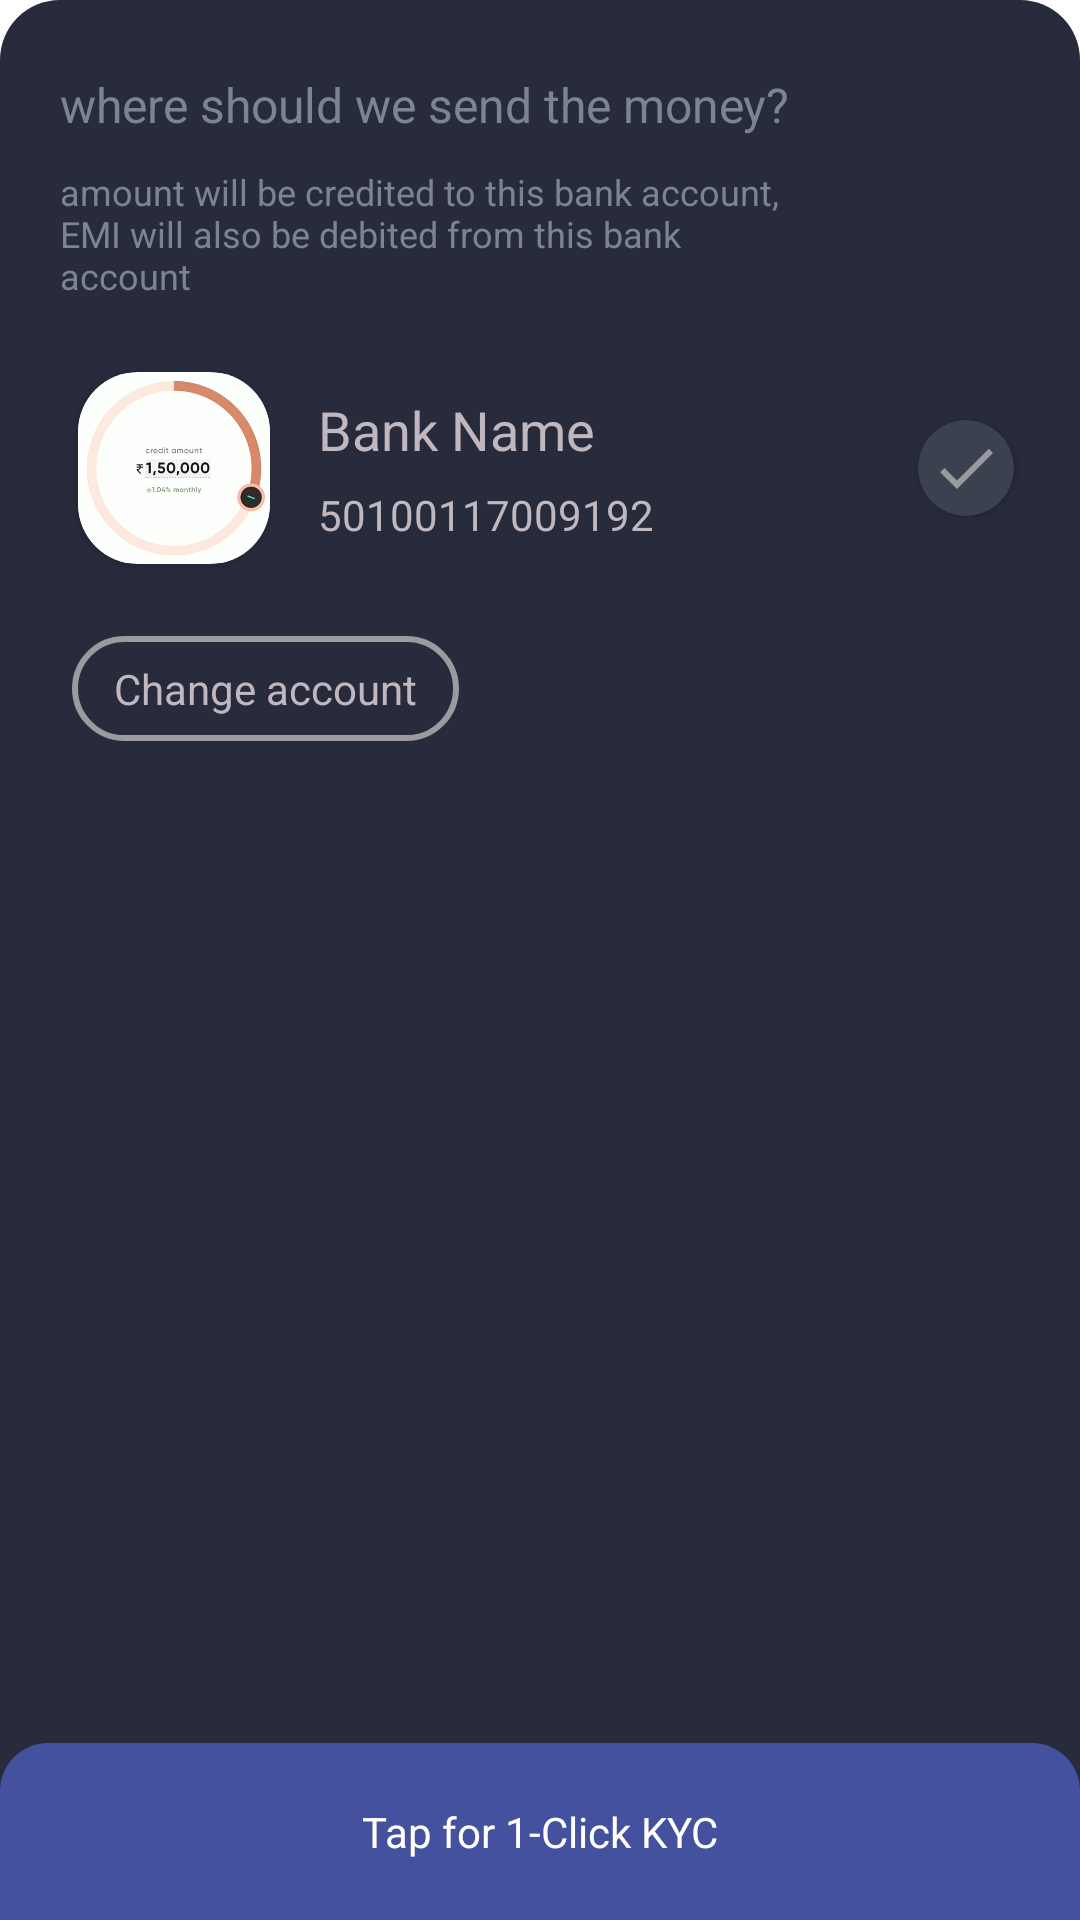

Where icons sit on this 1080x1920 app screen, as (x1, y1, x2, y2):
circular bar: (78, 372, 270, 564)
done: (940, 449, 993, 489)
